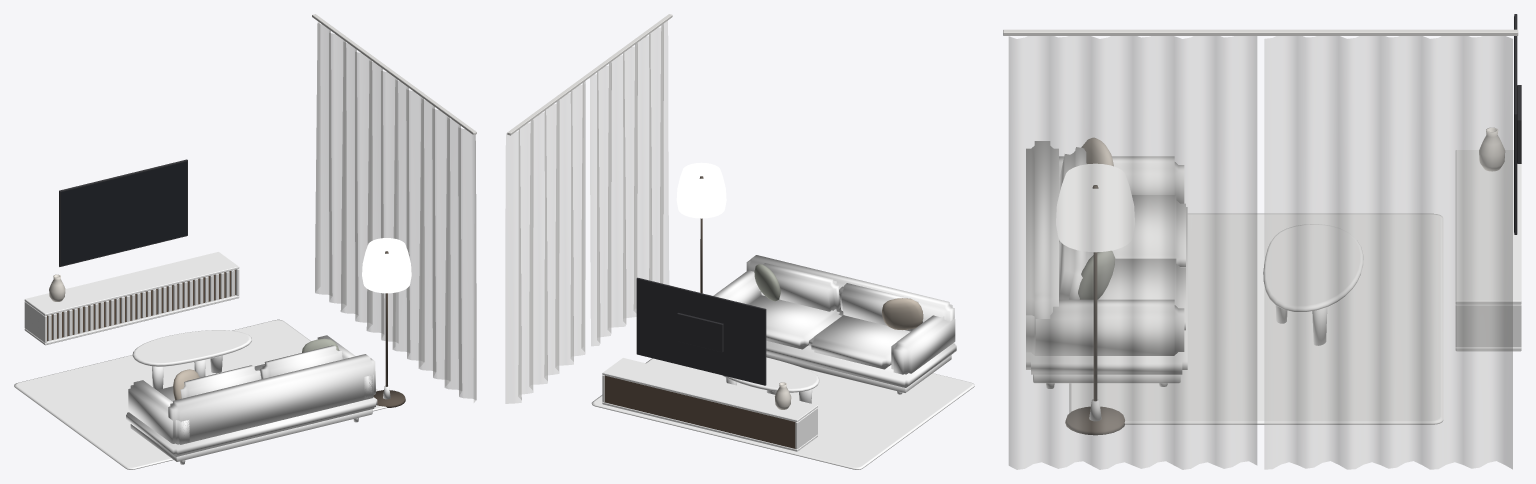
File: 03-living.glb
3 views of the same model, side by side, from view 1: azimuth 30°, elevation 25°; view 2: azimuth 150°, elevation 25°; view 3: azimuth 270°, elevation 25° (orthographic). The views are drawn at different scales.
Parts seen in each view (by area): view 1: Hotspot_AcousticGlass, Sofa_Japandi_Boucle, Rug_WovenWool, MediaConsole_FloatingOak, TV_Screen, CoffeeTable_OrganicOak, Light_Living_Lamp, MediaConsole_Backing, Sofa_Japandi_OakBase, CurtainTrack_Ceiling, TV_WallMounted_UltraThin; view 2: Hotspot_AcousticGlass, Sofa_Japandi_Boucle, Rug_WovenWool, TV_WallMounted_UltraThin, MediaConsole_FloatingOak, MediaConsole_Backing, Light_Living_Lamp, CoffeeTable_OrganicOak, Sofa_Pillow_Left, Sofa_Japandi_OakBase, CurtainTrack_Ceiling, Sofa_Pillow_Right; view 3: Hotspot_AcousticGlass, Rug_WovenWool, Sofa_Japandi_Boucle, MediaConsole_FloatingOak, Light_Living_Lamp, CoffeeTable_OrganicOak, CurtainTrack_Ceiling, Sofa_Japandi_OakBase, TV_WallMounted_UltraThin, Sofa_Pillow_Right, MediaConsole_CeramicVase, Sofa_Pillow_Left.
Part boxes in pixels (x1=…): Hotspot_AcousticGlass: x1=315, y1=22, x2=476, y2=402; Sofa_Japandi_Boucle: x1=126, y1=335, x2=377, y2=456; Rug_WovenWool: x1=14, y1=319, x2=386, y2=469; MediaConsole_FloatingOak: x1=24, y1=252, x2=239, y2=345; TV_Screen: x1=60, y1=161, x2=187, y2=265; CoffeeTable_OrganicOak: x1=132, y1=330, x2=251, y2=389; Light_Living_Lamp: x1=362, y1=238, x2=411, y2=407; MediaConsole_Backing: x1=47, y1=270, x2=235, y2=341; Sofa_Japandi_OakBase: x1=130, y1=409, x2=372, y2=464; CurtainTrack_Ceiling: x1=312, y1=14, x2=476, y2=134; TV_WallMounted_UltraThin: x1=59, y1=159, x2=187, y2=266; Hotspot_AcousticGlass: x1=505, y1=21, x2=668, y2=403; Sofa_Japandi_Boucle: x1=713, y1=255, x2=956, y2=387; Rug_WovenWool: x1=591, y1=358, x2=974, y2=469; TV_WallMounted_UltraThin: x1=636, y1=277, x2=766, y2=385; MediaConsole_FloatingOak: x1=602, y1=358, x2=817, y2=451; MediaConsole_Backing: x1=604, y1=375, x2=795, y2=448; Light_Living_Lamp: x1=676, y1=162, x2=726, y2=293; CoffeeTable_OrganicOak: x1=722, y1=357, x2=819, y2=403; Sofa_Pillow_Left: x1=882, y1=298, x2=923, y2=330; Sofa_Japandi_OakBase: x1=766, y1=354, x2=951, y2=394; CurtainTrack_Ceiling: x1=507, y1=14, x2=672, y2=135; Sofa_Pillow_Right: x1=754, y1=264, x2=780, y2=301; Hotspot_AcousticGlass: x1=1009, y1=36, x2=1512, y2=469; Rug_WovenWool: x1=1069, y1=213, x2=1443, y2=424; Sofa_Japandi_Boucle: x1=1026, y1=141, x2=1187, y2=374; MediaConsole_FloatingOak: x1=1455, y1=150, x2=1521, y2=351; Light_Living_Lamp: x1=1056, y1=163, x2=1134, y2=435; CoffeeTable_OrganicOak: x1=1263, y1=224, x2=1363, y2=345; CurtainTrack_Ceiling: x1=1003, y1=29, x2=1518, y2=35; Sofa_Japandi_OakBase: x1=1033, y1=374, x2=1180, y2=388; TV_WallMounted_UltraThin: x1=1514, y1=14, x2=1521, y2=234; Sofa_Pillow_Right: x1=1078, y1=251, x2=1114, y2=299; MediaConsole_CeramicVase: x1=1479, y1=127, x2=1505, y2=171; Sofa_Pillow_Left: x1=1081, y1=137, x2=1113, y2=166.
Size of the model in its own units: 3.51 by 2.78 by 2.98.
